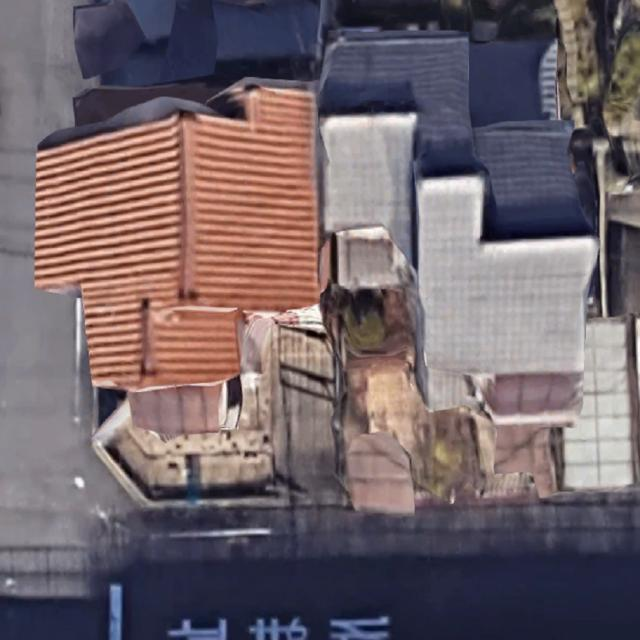Batiment: (319, 31, 598, 425), (35, 88, 318, 390)
